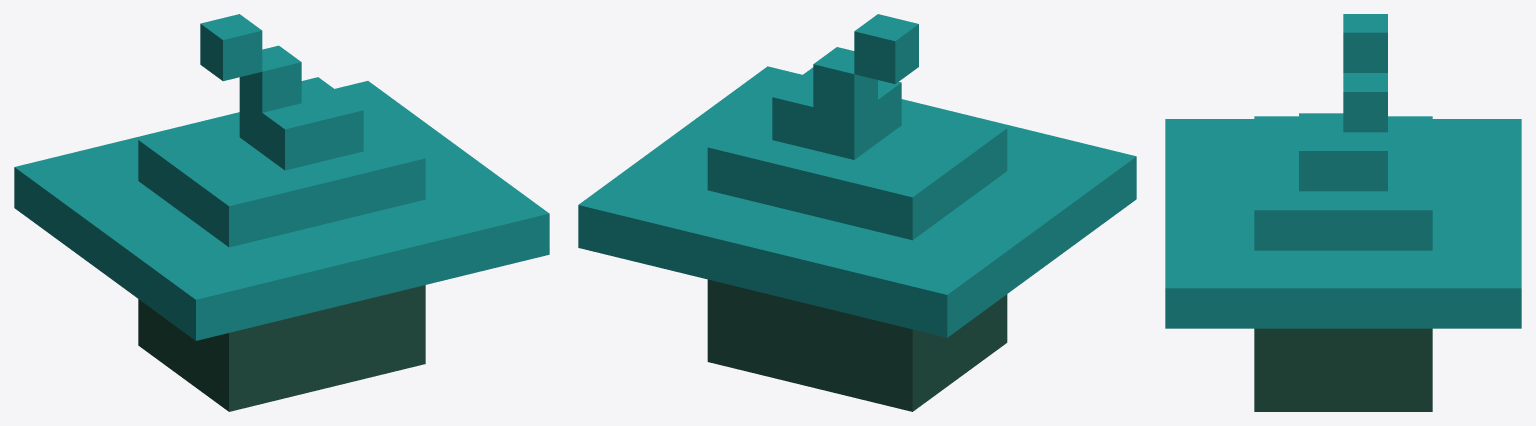
File: Head.obj
3 renders of one model, left to right at view 1: azimuth 30°, elevation 25°; view 2: azimuth 150°, elevation 25°; view 3: azimuth 270°, elevation 25°, orthographic. The views are drawn at different scales.
Visible parts, largest first — view 1: material_0_group, material_1_group; view 2: material_0_group, material_1_group; view 3: material_0_group, material_1_group.
Part boxes in pixels (bbox=[...]): material_0_group: bbox=[14, 14, 549, 340]; material_1_group: bbox=[138, 285, 425, 411]; material_0_group: bbox=[578, 14, 1136, 337]; material_1_group: bbox=[707, 279, 1007, 411]; material_0_group: bbox=[1165, 14, 1521, 328]; material_1_group: bbox=[1254, 328, 1432, 411].
Bounding box in the file's own units: 9 × 8 × 8.
